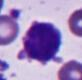L: (22, 21, 62, 62)
